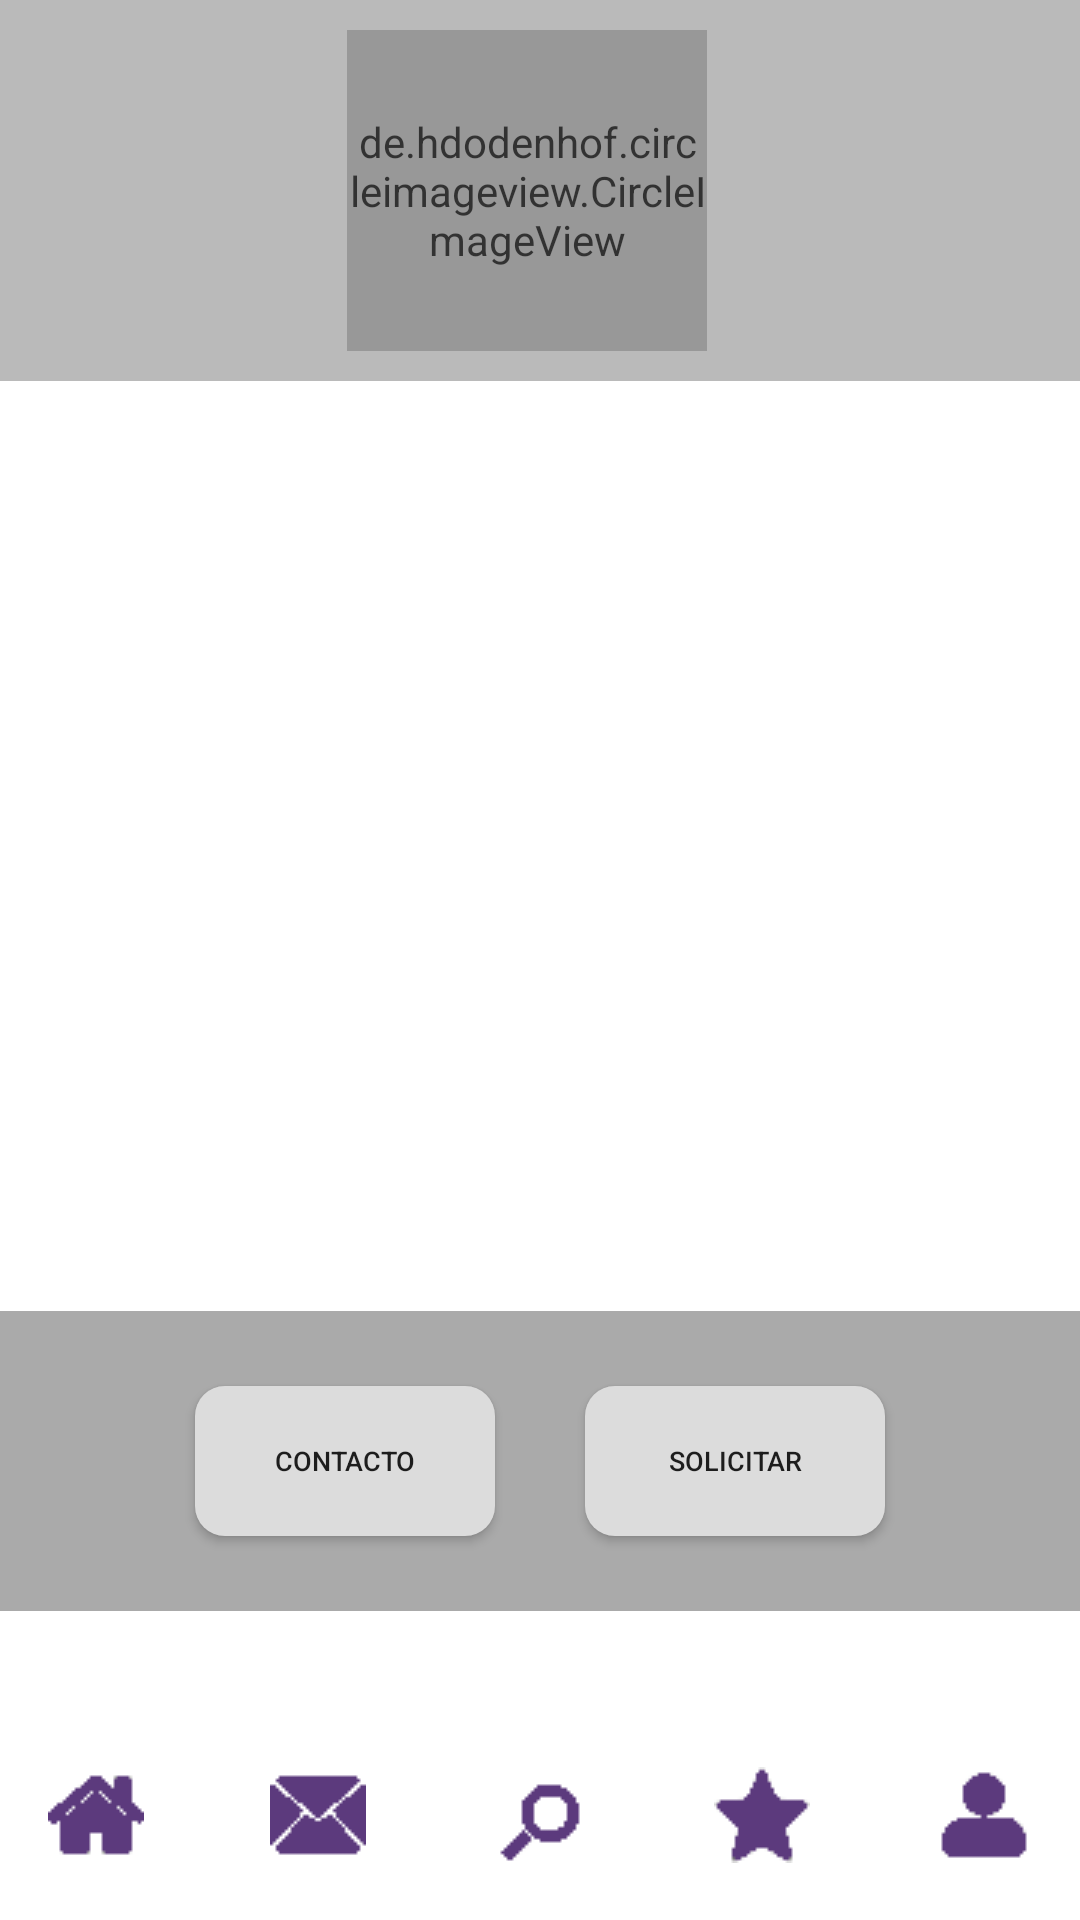

Screen size 1080*1920. Icon name, then its center in pixels as (x,y):
buscar: (540,1822)
buzon: (318,1815)
favorito: (762,1816)
inicio: (96,1815)
perfil: (984,1815)
